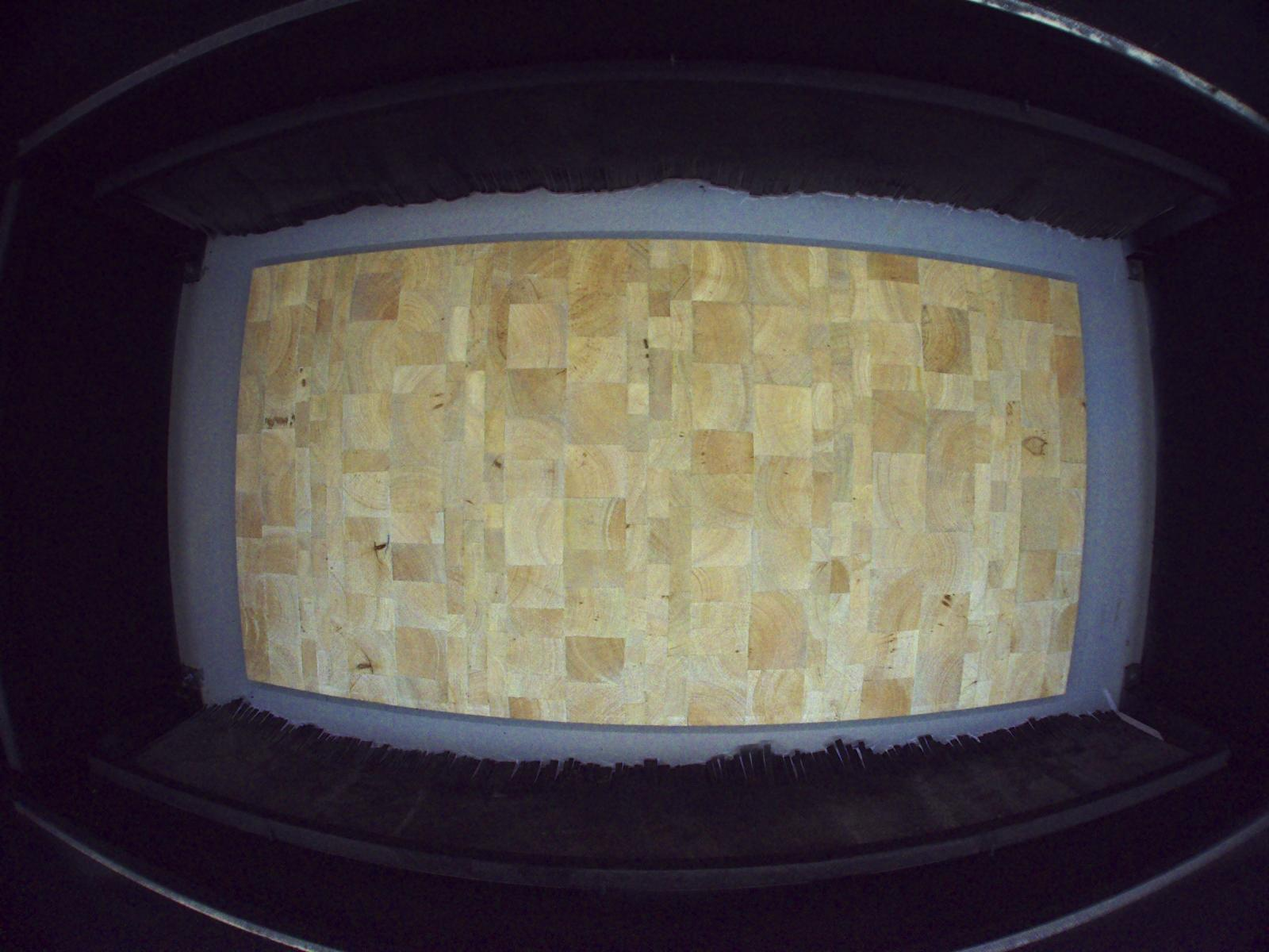sheck_ecuatoriano: (372, 540, 388, 565)
